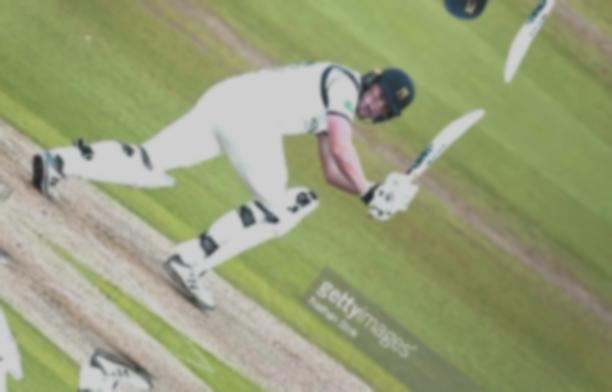batsman: (23, 62, 522, 312)
